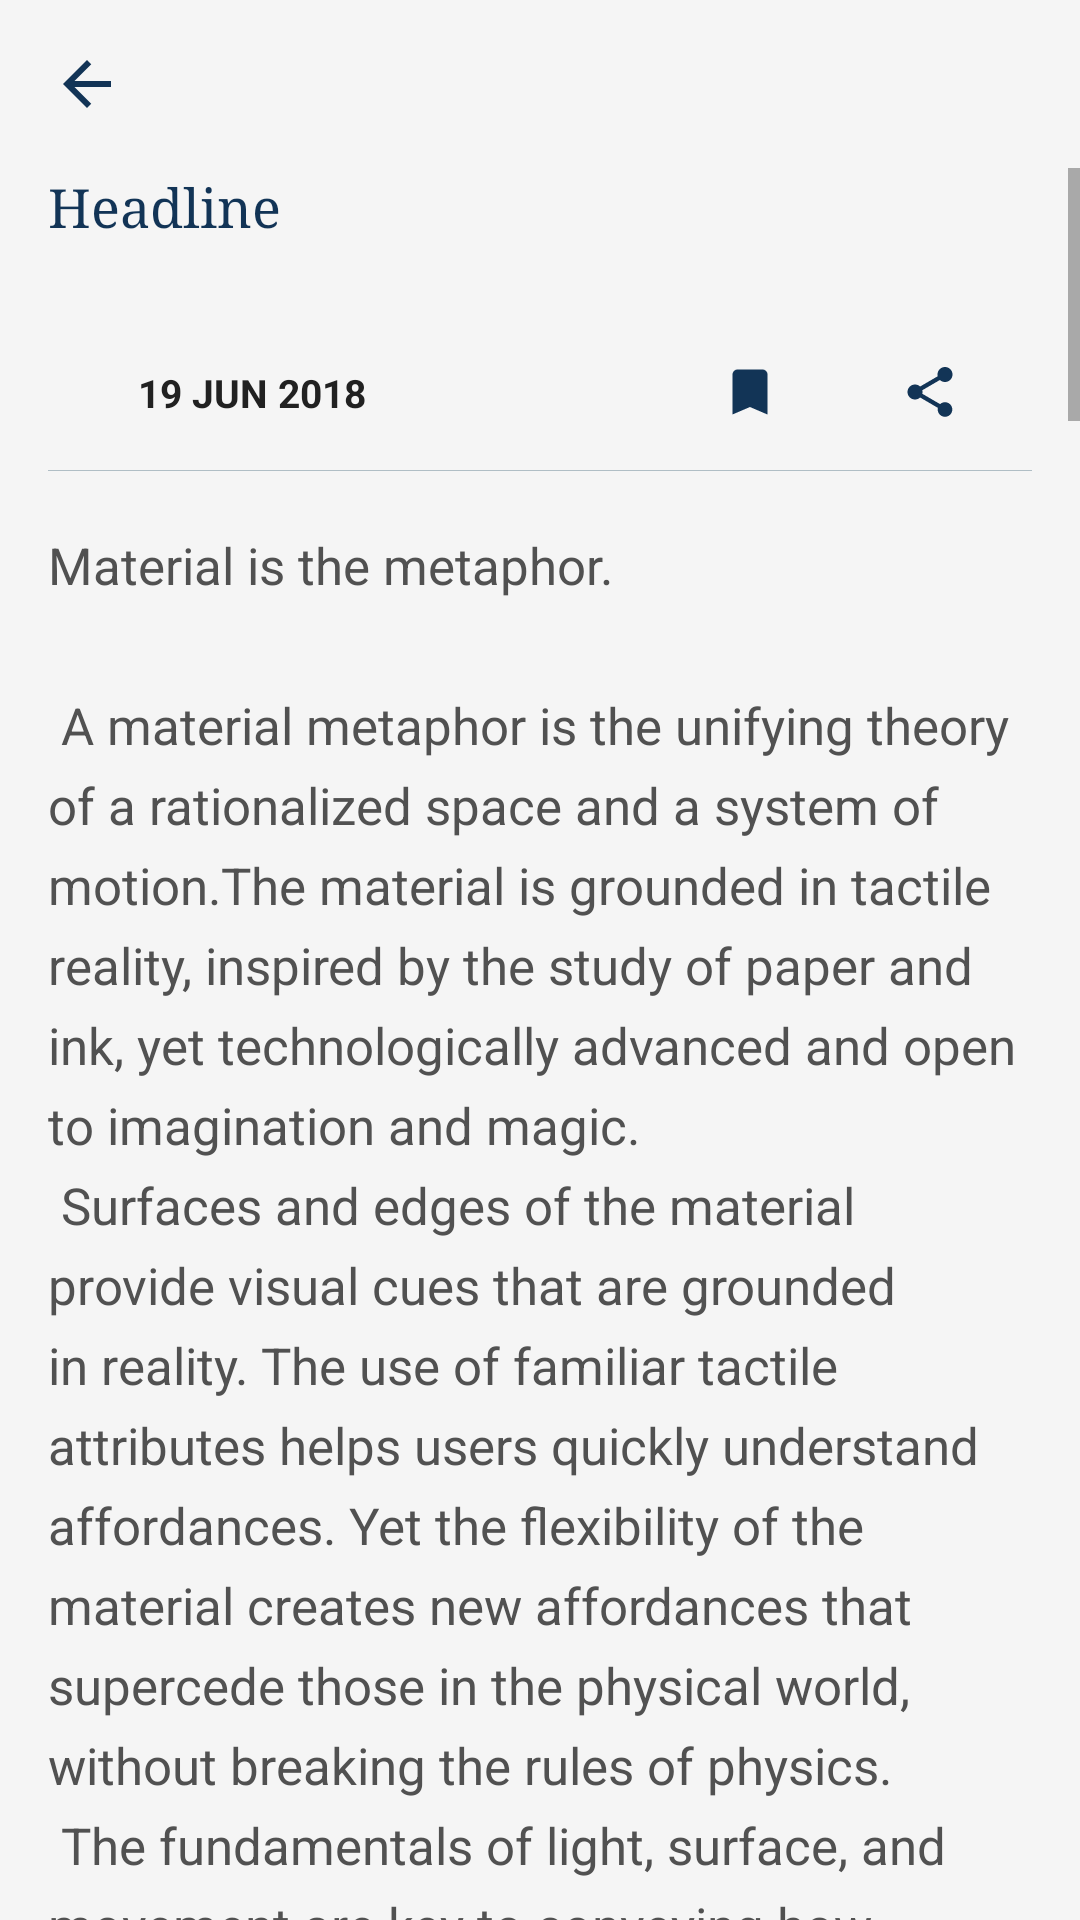

Screen size 1080px x 1920px. Icon name, then its box in pixels as [x1,y1,x2,y2]:
arrow: [63,60,111,108]
saved: [732,369,768,415]
share: [907,367,953,417]
